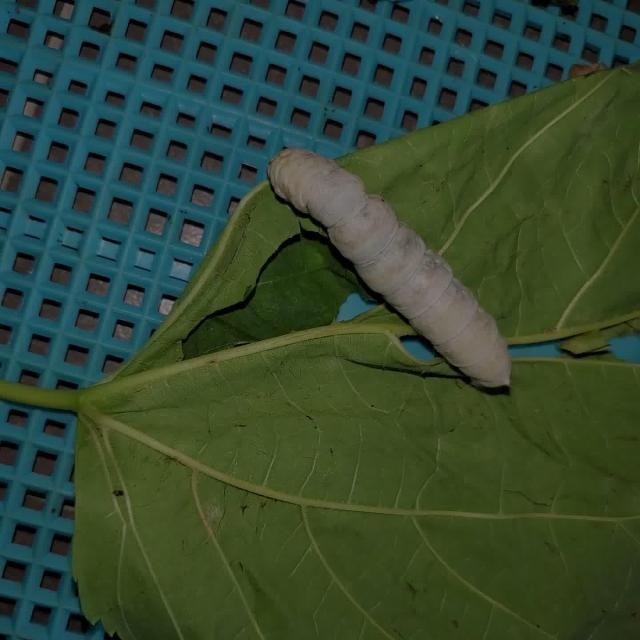Grasserie: (240, 116, 541, 417)
